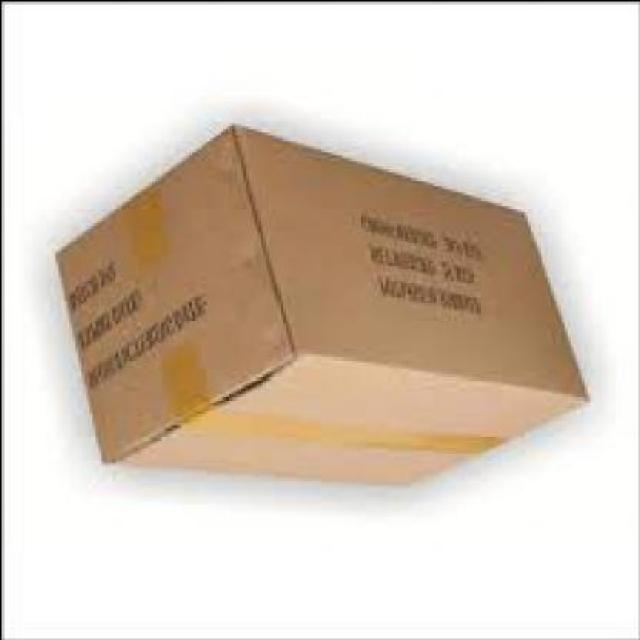CARDBOARD: (51, 125, 583, 489)
